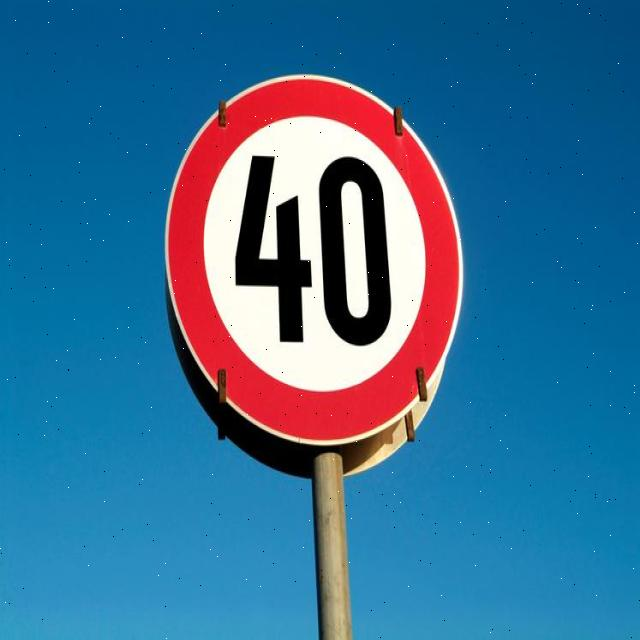speed limit 40: (167, 76, 462, 452)
